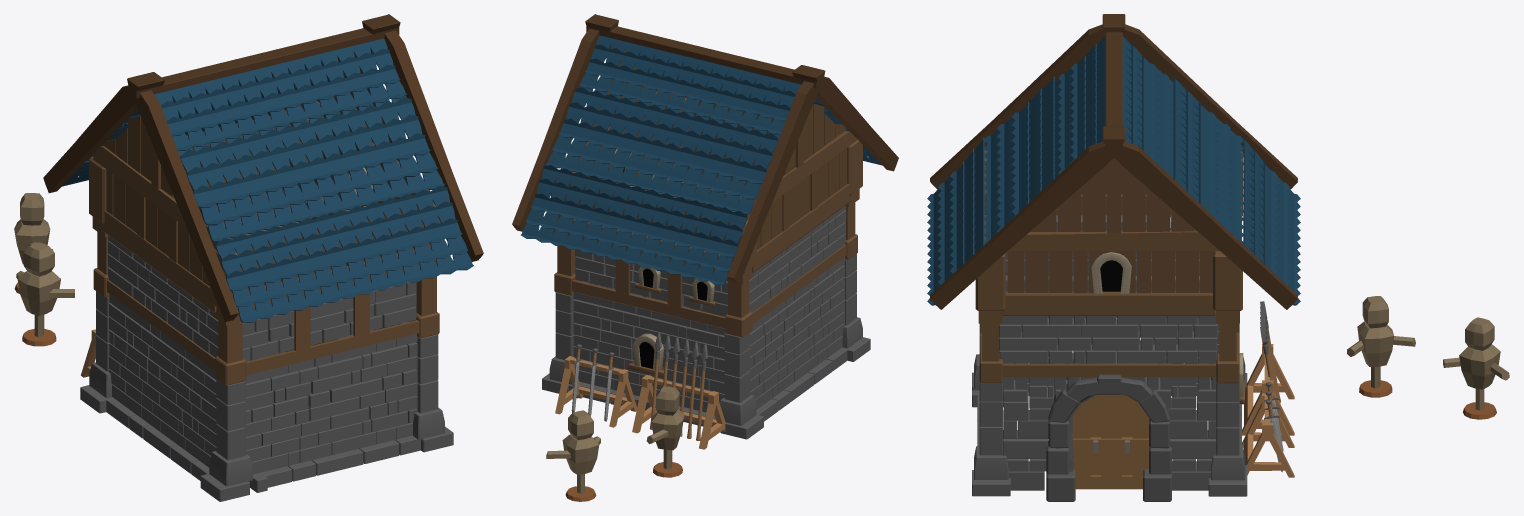
The model's file is Kazarmablend (1).fbx.
3 renders of one model, left to right at view 1: azimuth 30°, elevation 25°; view 2: azimuth 150°, elevation 25°; view 3: azimuth 270°, elevation 25°, orthographic. The views are drawn at different scales.
Parts seen in each view (by area): view 1: Cube.024, Cube.026, Cube.006, Cube.025, Cube.030, Cube.012, Cube.003, Cube.014, Cube.016, Cube.015, Cube.022, Cube.018 (+11 smaller); view 2: Cube.024, Cube.026, Cube.025, Cube.033, Cube.030, Cube.012, Cube, Cube.016, Cube.015, Cube.022, Cube.018, Cube.028 (+16 smaller); view 3: Cube.030, Cube.024, Cube.026, Cube.032, Cube.008, Cube.025, Cube.023, Cube.019, Cube.034, Cube.011, Cube.001, Cube.004 (+15 smaller).
Part boxes in pixels (box(x1,y1,x2,y2)): Cube.024: box(101, 76, 444, 242); Cube.026: box(62, 108, 473, 322); Cube.006: box(245, 333, 417, 474); Cube.025: box(130, 38, 406, 157); Cube.030: box(43, 30, 483, 322); Cube.012: box(109, 294, 216, 467); Cube.003: box(200, 334, 453, 501); Cube.014: box(242, 282, 416, 361); Cube.016: box(107, 280, 419, 375); Cube.015: box(108, 236, 218, 357); Cube.022: box(127, 14, 400, 98); Cube.018: box(106, 169, 209, 286); Cube.024: box(546, 69, 847, 214); Cube.026: box(521, 130, 882, 284); Cube.025: box(579, 35, 822, 139); Cube.033: box(573, 292, 725, 412); Cube.030: box(512, 28, 898, 284); Cube.012: box(750, 257, 845, 409); Cube: box(542, 292, 763, 439); Cube.016: box(571, 244, 846, 328); Cube.015: box(749, 206, 846, 312); Cube.022: box(585, 14, 825, 87); Cube.018: box(756, 148, 846, 249); Cube.028: box(575, 249, 727, 315); Cube.030: box(930, 24, 1297, 309); Cube.024: box(984, 76, 1243, 243); Cube.026: box(927, 137, 1300, 305); Cube.032: box(1002, 363, 1216, 490); Cube.008: box(999, 311, 1217, 363); Cube.025: box(1054, 36, 1173, 178); Cube.023: box(1007, 251, 1213, 293); Cube.019: box(1072, 394, 1148, 488); Cube.034: box(1046, 377, 1171, 501); Cube.011: box(1002, 194, 1241, 315); Cube.001: box(1030, 166, 1196, 231); Cube.004: box(1008, 230, 1219, 250).
Size of the model in its own units: 1221 by 1682 by 2394.
